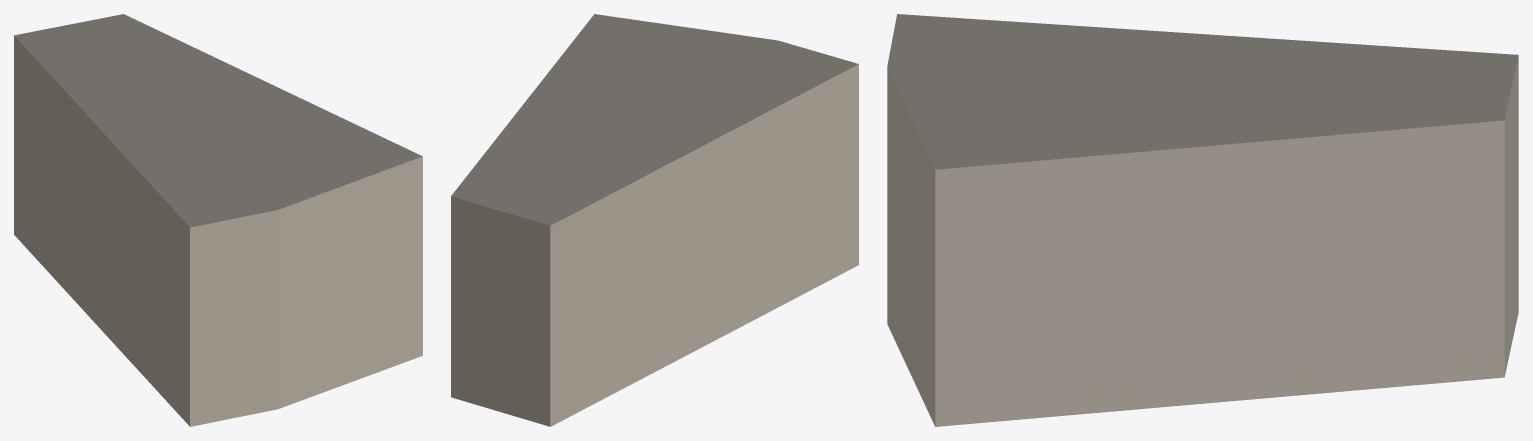
3 views of the same model, side by side, from view 1: azimuth 30°, elevation 25°; view 2: azimuth 150°, elevation 25°; view 3: azimuth 270°, elevation 25° (orthographic). The views are drawn at different scales.
Parts seen in each view (by area): view 1: HP-w859447889; view 2: HP-w859447889; view 3: HP-w859447889.
Part boxes in pixels (box(x1,y1,x2,y2)): HP-w859447889: box(14, 14, 422, 426); HP-w859447889: box(451, 14, 858, 426); HP-w859447889: box(887, 14, 1518, 426).
Bounding box in the file's own units: 23.38 × 18 × 40.06.
